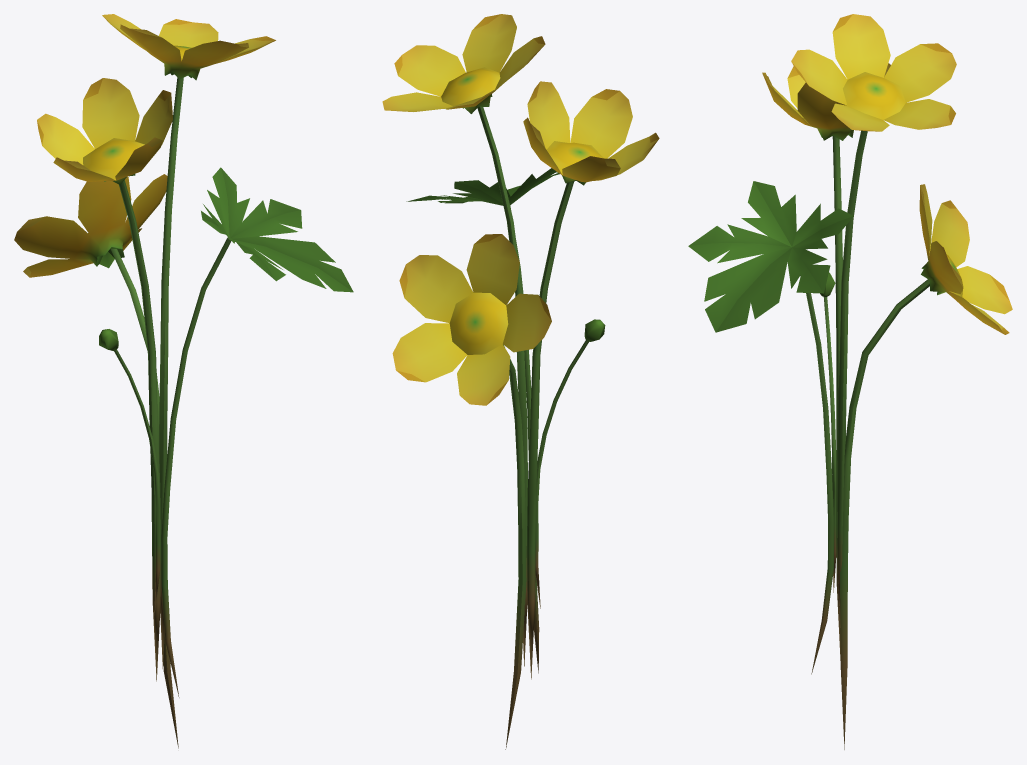
File: plants-flowers-buttercup_v1.glb
The picture shows the model from 3 angles, left to right: view 1: azimuth 30°, elevation 25°; view 2: azimuth 150°, elevation 25°; view 3: azimuth 270°, elevation 25°; orthographic projection. The views are drawn at different scales.
Visible parts, largest first — view 1: Buttercup_v1; view 2: Buttercup_v1; view 3: Buttercup_v1.
Part boxes in pixels (x1,y1,x2,y2): Buttercup_v1: (14,14,353,748); Buttercup_v1: (382,14,659,749); Buttercup_v1: (688,14,1012,749).
Size of the model in its own units: 0.1421 by 0.4 by 0.1643.
